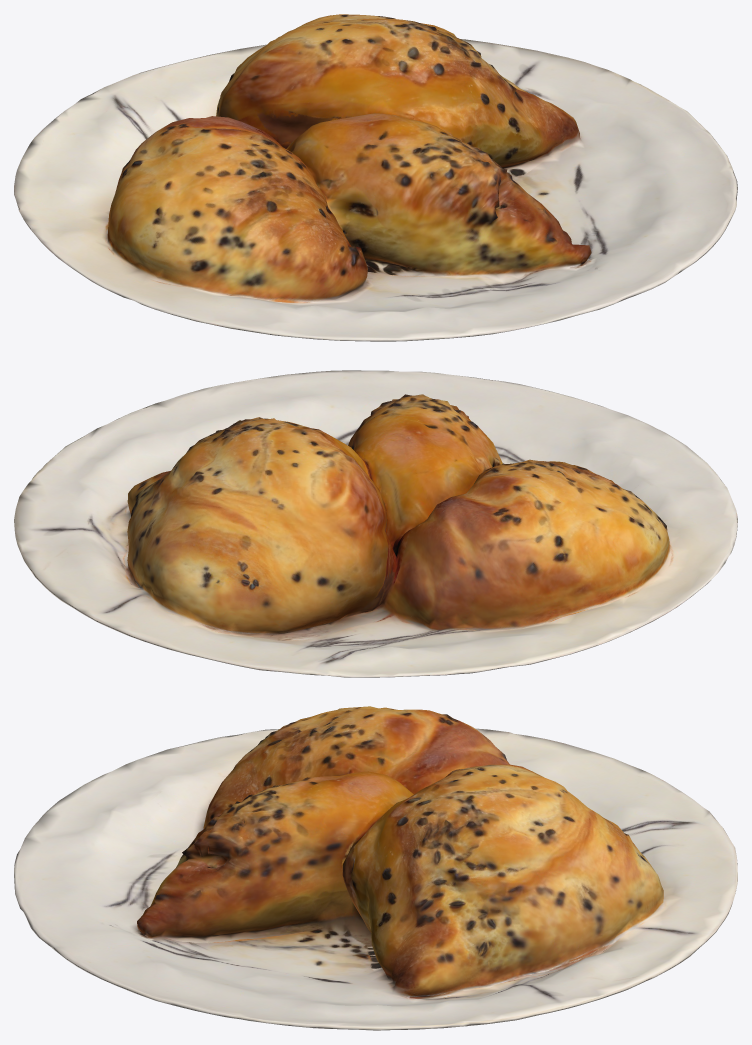
Rendered from 1752017753529_Karsillama-somsa_tovuqgosht_pishloqli.glb.
The picture shows the model from 3 angles, top to bottom: view 1: azimuth 30°, elevation 25°; view 2: azimuth 150°, elevation 25°; view 3: azimuth 270°, elevation 25°; orthographic projection.
Bounding box in the file's own units: 2 × 0.4266 × 2.
Materials: 1 (1 with a texture image).
